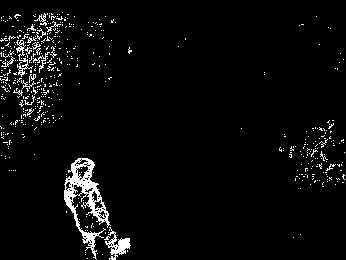person: (62, 152, 132, 260)
